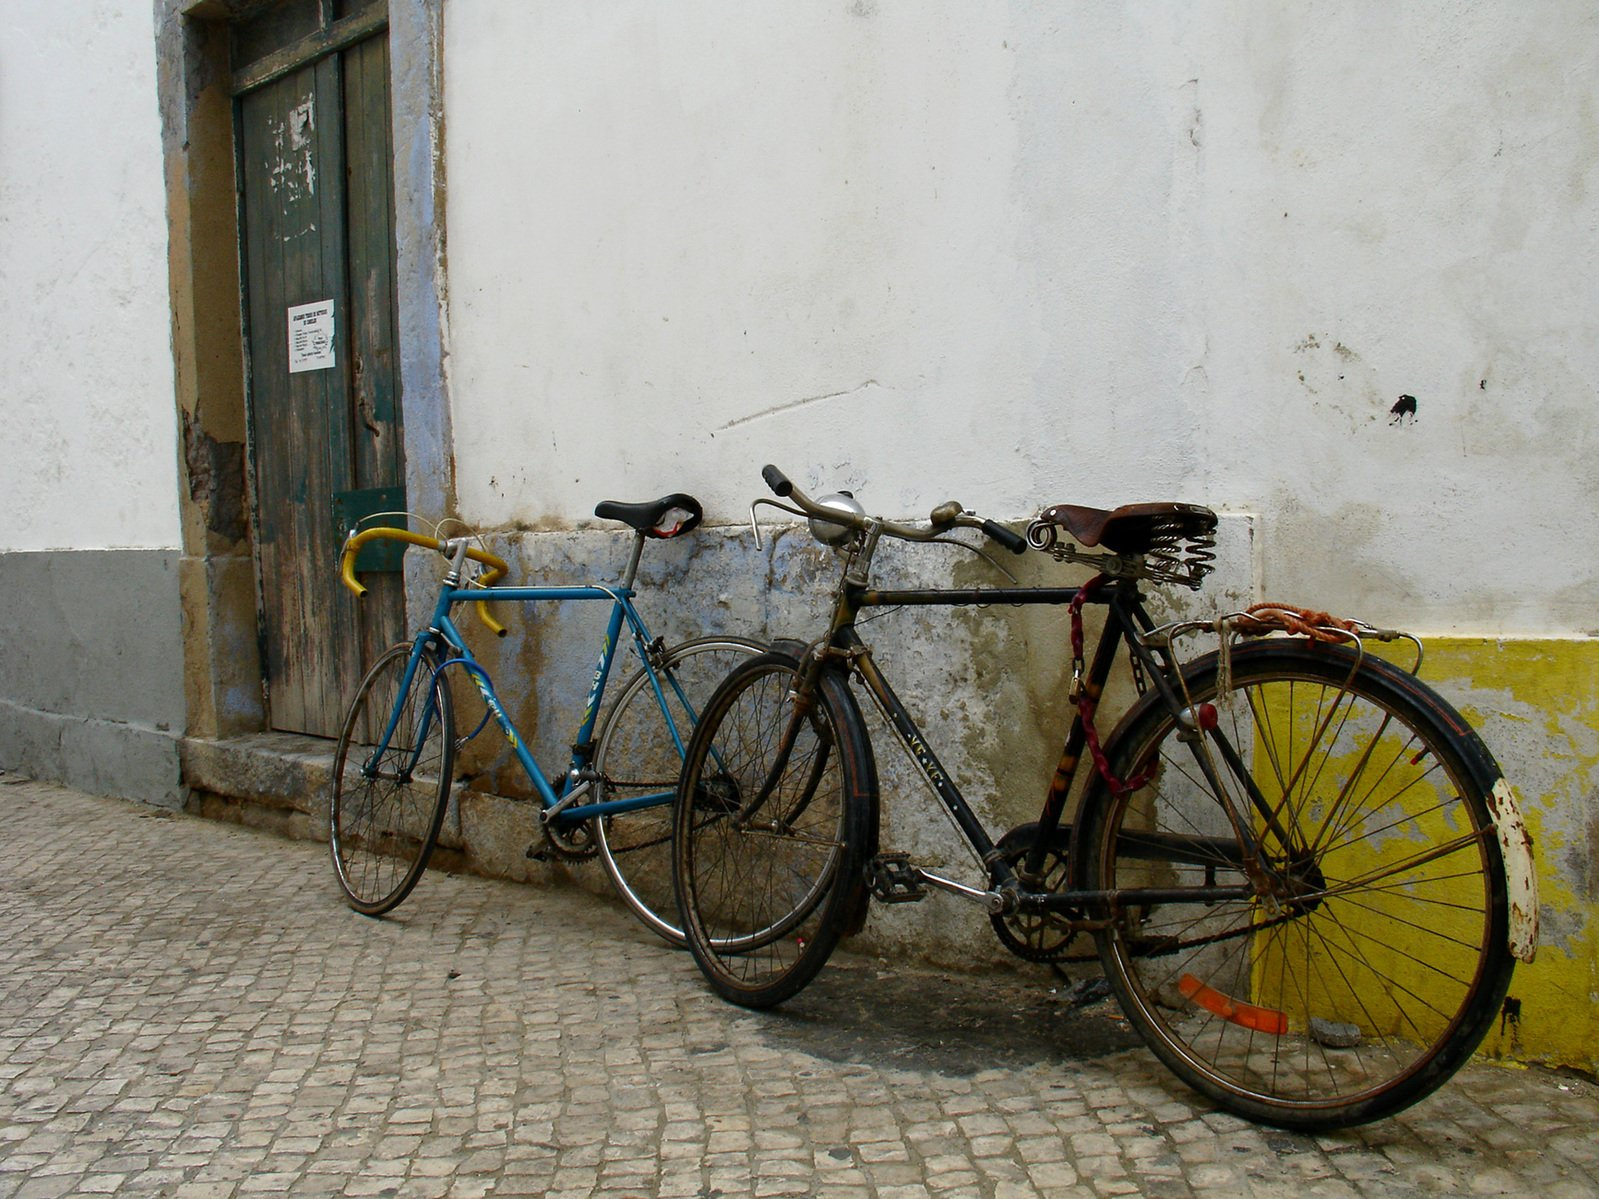Bicycle: (9, 71, 1581, 1157)
